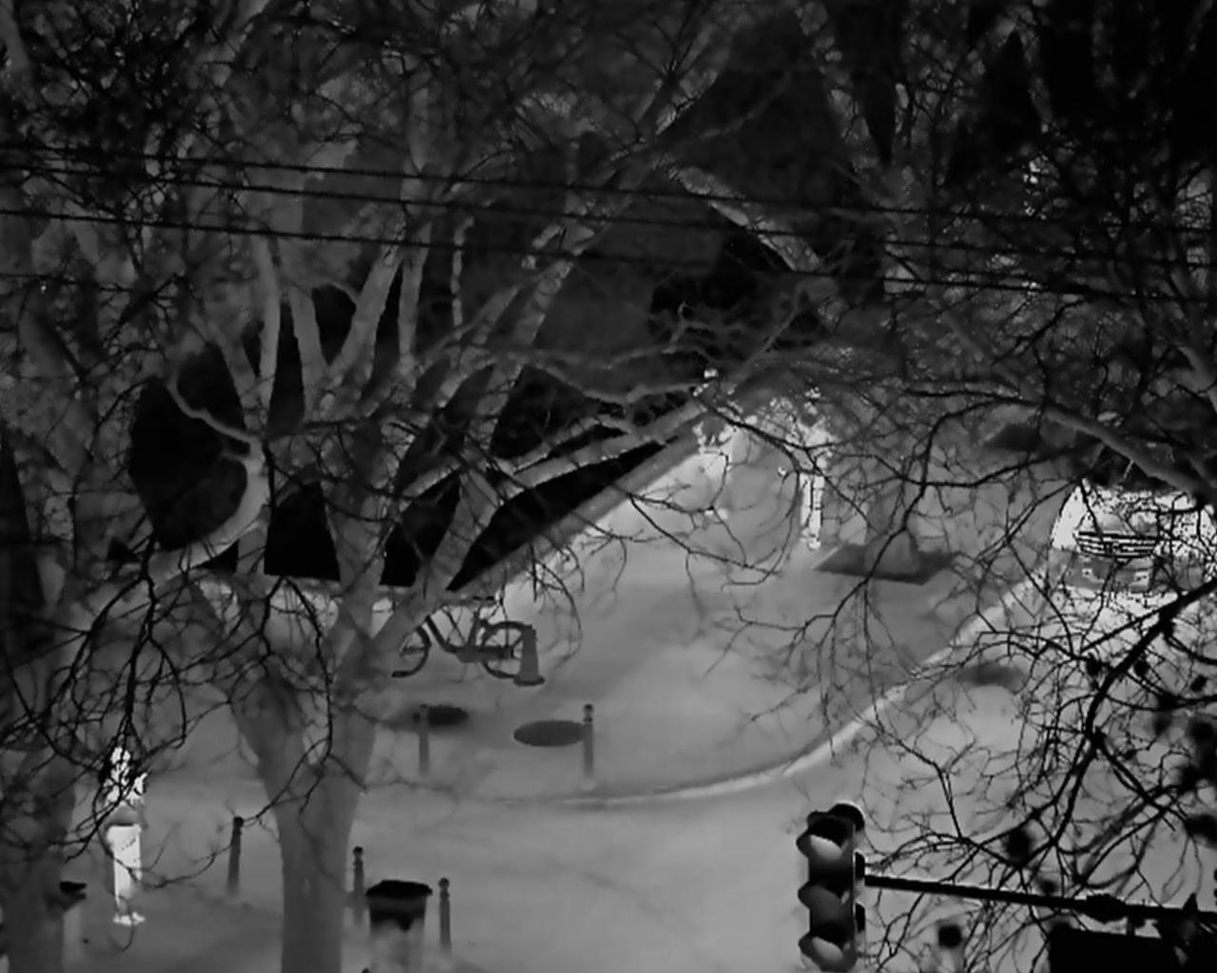person: (778, 378, 836, 549), (688, 366, 745, 524), (101, 746, 147, 925)
